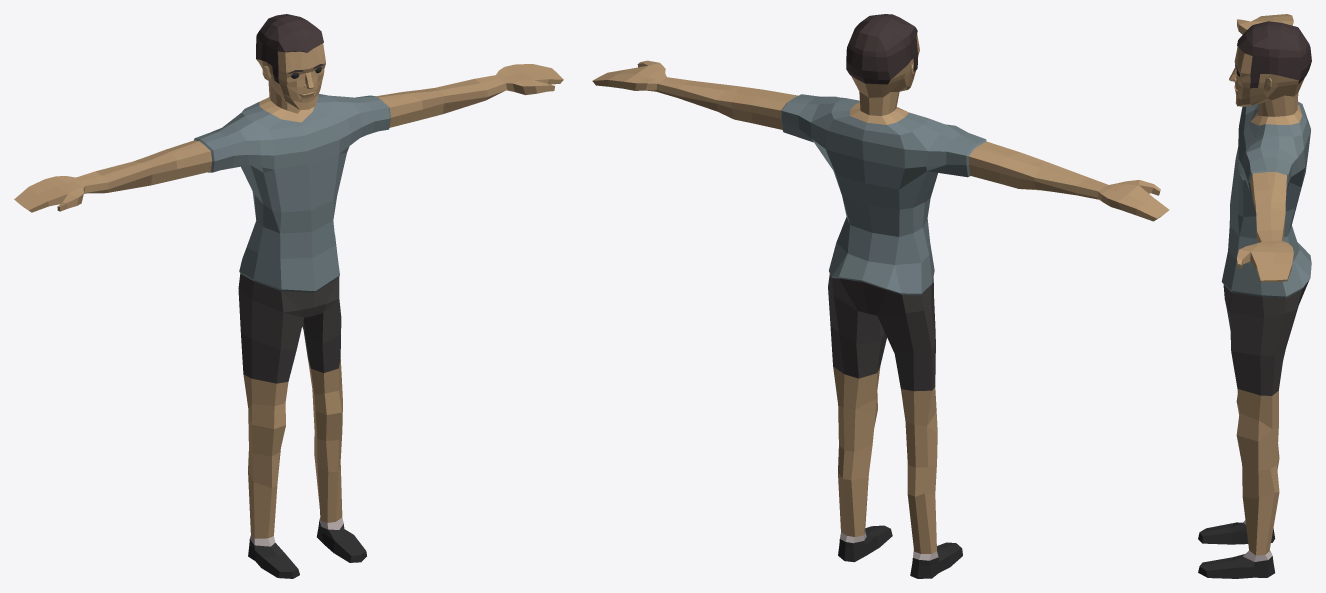
File: crowd3.glb
3 views of the same model, side by side, from view 1: azimuth 30°, elevation 25°; view 2: azimuth 150°, elevation 25°; view 3: azimuth 270°, elevation 25° (orthographic). The views are drawn at different scales.
Visible parts, largest first — view 1: BaseHuman; view 2: BaseHuman; view 3: BaseHuman.
Part boxes in pixels (left/top/right/bottom): BaseHuman: left=14, top=14, right=563, bottom=578; BaseHuman: left=592, top=14, right=1169, bottom=578; BaseHuman: left=1198, top=14, right=1311, bottom=578.
Bounding box in the file's own units: 5.2 × 4.84 × 0.9428.
